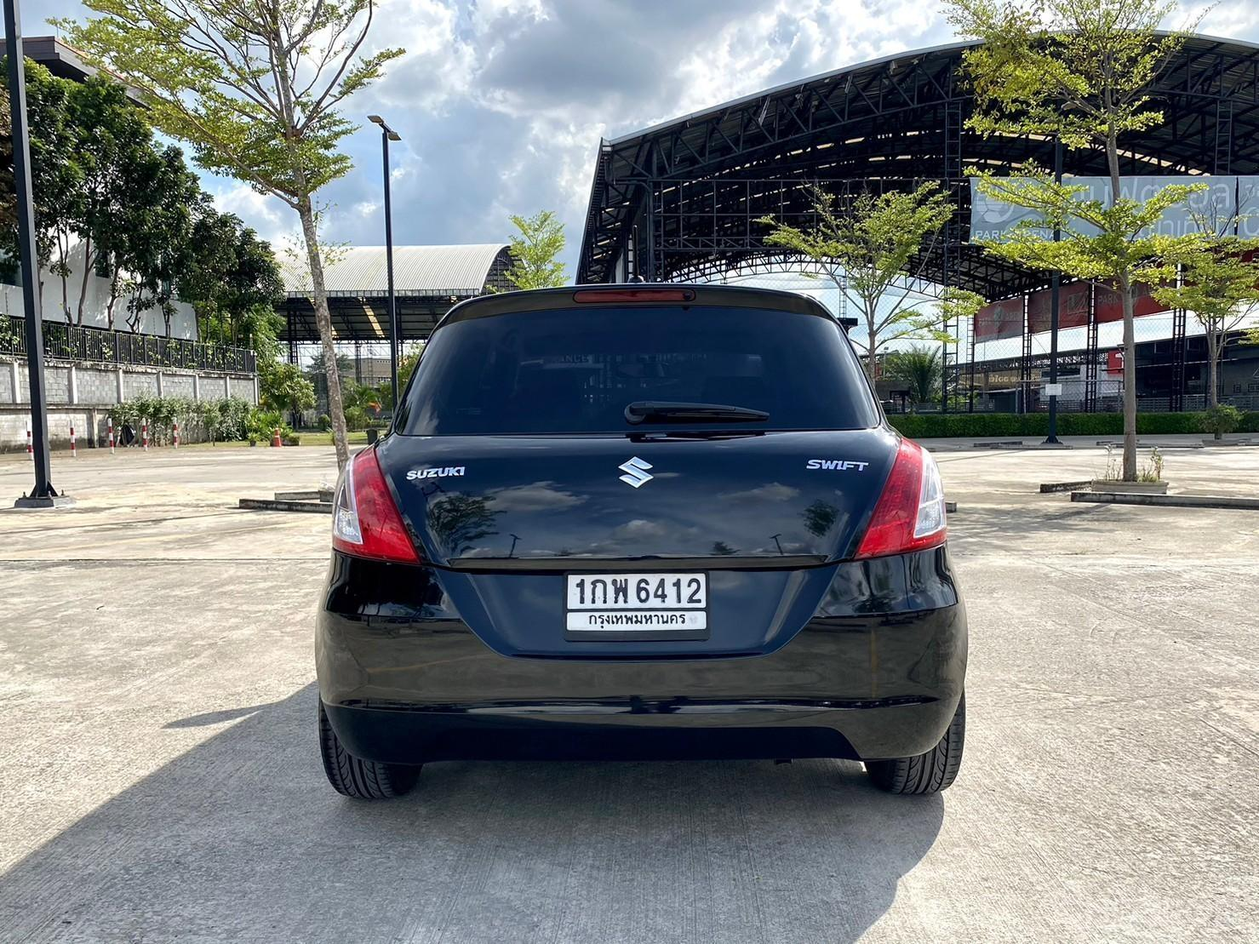license-plate: (562, 565, 712, 641)
